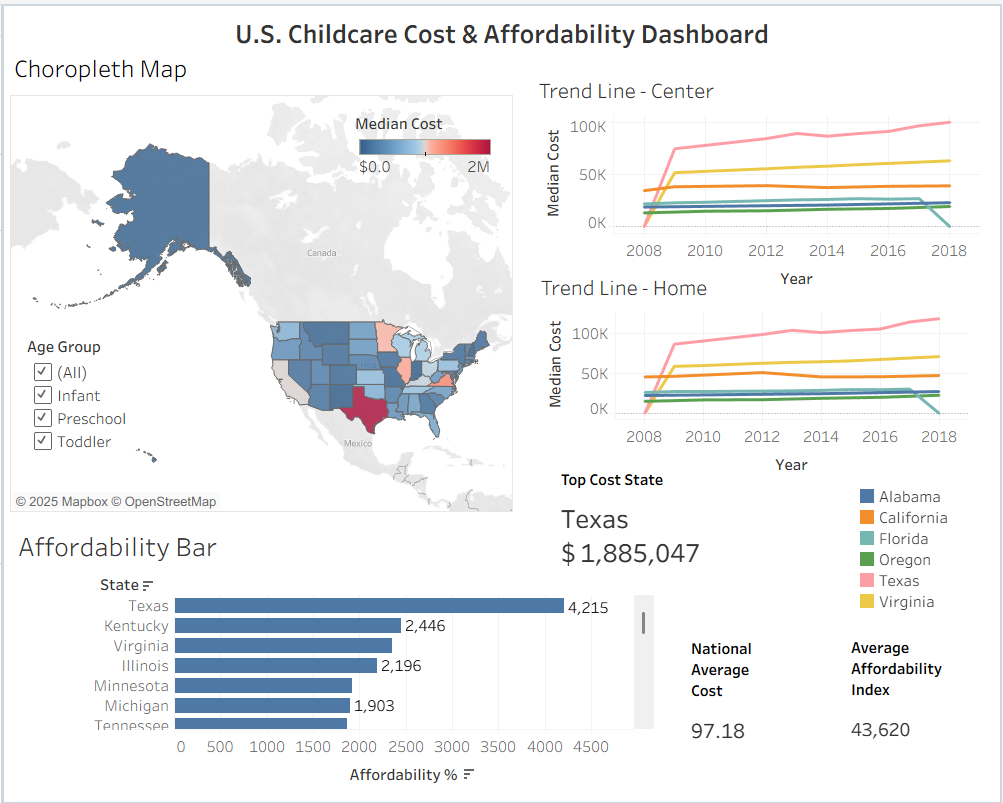

This screenshot's page, from the dashboard's own definition file:
{"tool":"tableau","page":{"name":"U.S. Childcare Cost & Affordability Dashboard","canvas":[1000,800],"ordinal":0},"visuals":[{"type":"title","box":[8,8,984,42]},{"type":"worksheet","title":"Map","mark":"Automatic","box":[8,44,503,464]},{"type":"worksheet","title":"Trend Line - Center","mark":"Automatic","rows":["Median_Cost"],"cols":["Year"],"box":[533,68,445,224]},{"type":"worksheet","title":"Filter","mark":"Automatic","box":[31,75,333,45]},{"type":"legend","title":"Map","param":"[federated.07voarj0hrn2bs12mv2w50sxjtmv].[sum:Median_Cost:qk]","box":[353,109,140,88]},{"type":"worksheet","title":"Trend Line - Home","mark":"Automatic","rows":["Median_Cost"],"cols":["Year"],"box":[535,265,431,213]},{"type":"filter","title":"Filter","param":"[federated.07voarj0hrn2bs12mv2w50sxjtmv].[none:Age_Group:nk]","box":[25,332,156,132]},{"type":"legend","title":"Trend Line - Center","param":"[federated.07voarj0hrn2bs12mv2w50sxjtmv].[none:State:nk]","box":[855,460,124,160]},{"type":"worksheet","title":"KPI – Top State","mark":"Text","box":[555,461,204,111]},{"type":"worksheet","title":"Affordability Bar","mark":"Automatic","rows":["State"],"cols":["Calculation_601512055938609152"],"box":[12,521,640,267]},{"type":"worksheet","title":"KPI – Affordability %","mark":"Text","box":[845,629,116,128]},{"type":"worksheet","title":"KPI – Avg Cost","mark":"Automatic","box":[685,630,135,123]}]}

Visuals, with their boxes in screenshot pixels (x1, y1, x2, y2), scaled from the page's 1000x800 canvas onto the 1003x803 screenshot:
title: x1=8 y1=8 x2=995 y2=50
"Map" worksheet: x1=8 y1=44 x2=513 y2=510
"Trend Line - Center" worksheet: x1=535 y1=68 x2=981 y2=293
"Filter" worksheet: x1=31 y1=75 x2=365 y2=120
"Map" legend: x1=354 y1=109 x2=494 y2=198
"Trend Line - Home" worksheet: x1=537 y1=266 x2=969 y2=480
"Filter" filter: x1=25 y1=333 x2=182 y2=466
"Trend Line - Center" legend: x1=858 y1=462 x2=982 y2=622
"KPI – Top State" worksheet (Text marks): x1=557 y1=463 x2=761 y2=574
"Affordability Bar" worksheet: x1=12 y1=523 x2=654 y2=791
"KPI – Affordability %" worksheet (Text marks): x1=848 y1=631 x2=964 y2=760
"KPI – Avg Cost" worksheet: x1=687 y1=632 x2=822 y2=756
